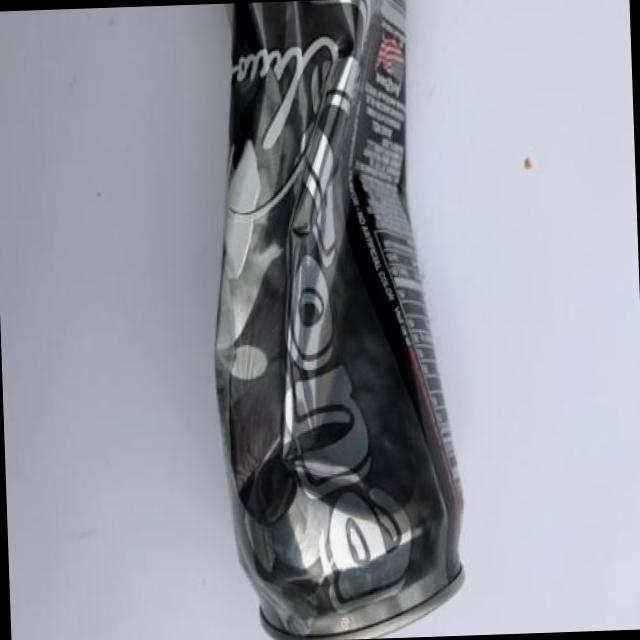kim_loai: (213, 0, 462, 640)
